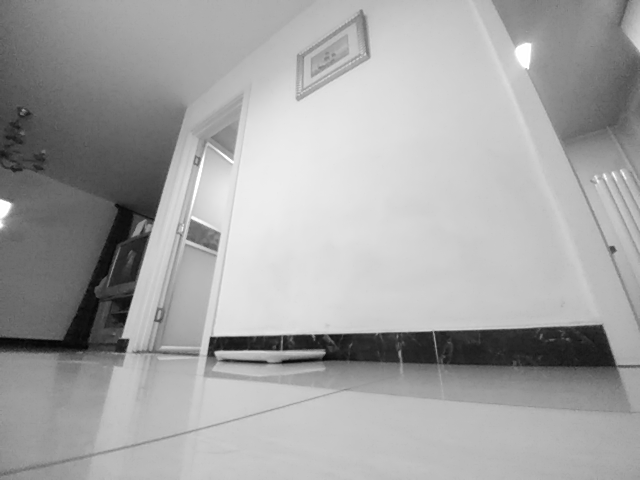scale: (213, 346, 328, 367)
